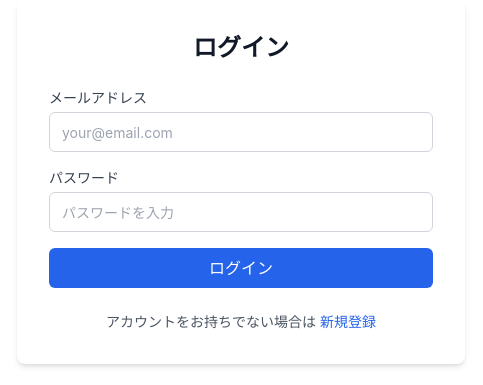
Test: LoginForm › should display loading state during submission
Type "test@example.com" into the field labelled "メールアドレス" at (241,132), box top-left (49, 112), bottom-right (433, 152)
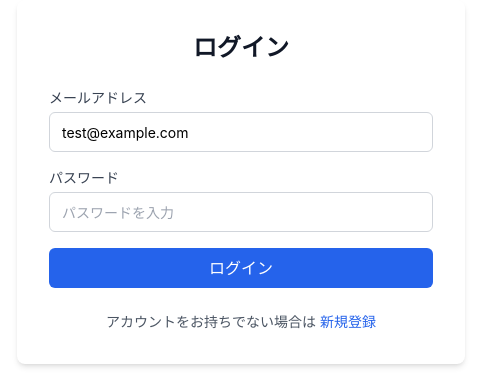
Type "password123" into the password field labelled "パスワード" at (241,212), box top-left (49, 192), bottom-right (433, 232)
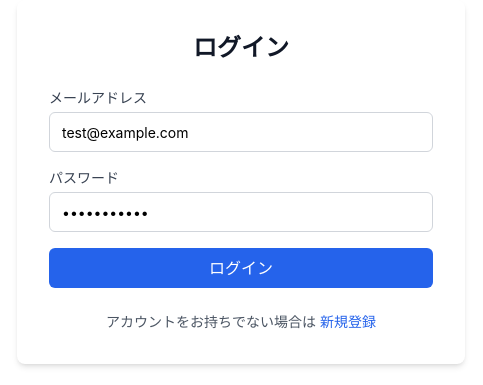
Click the button "ログイン" at (241,268), box top-left (49, 248), bottom-right (433, 288)
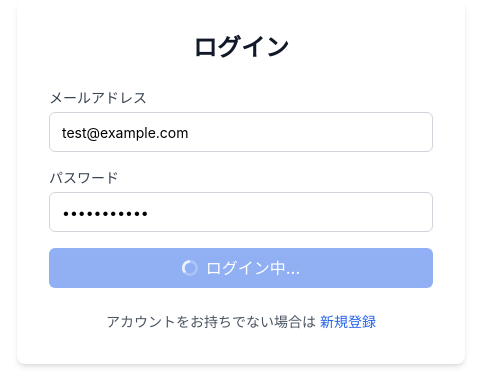
Now the button "ログイン中..." is disabled, box top-left (49, 248), bottom-right (433, 288)
